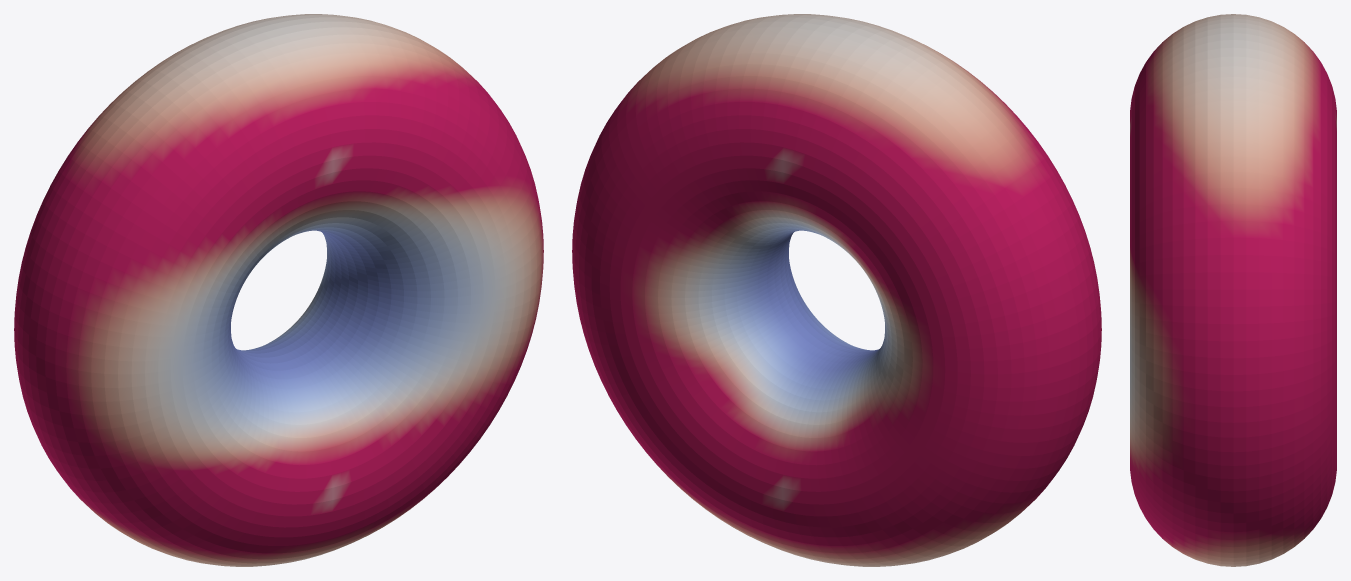
3 views of the same model, side by side, from view 1: azimuth 30°, elevation 25°; view 2: azimuth 150°, elevation 25°; view 3: azimuth 270°, elevation 25° (orthographic). The views are drawn at different scales.
Parts seen in each view (by area): view 1: world; view 2: world; view 3: world.
Part boxes in pixels (bbox=[...]): world: bbox=[14, 14, 543, 566]; world: bbox=[572, 14, 1101, 566]; world: bbox=[1130, 14, 1336, 566].
Size of the model in its own units: 24.53 by 24.53 by 9.18.
